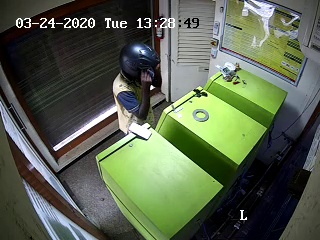helmet: (117, 41, 162, 90)
